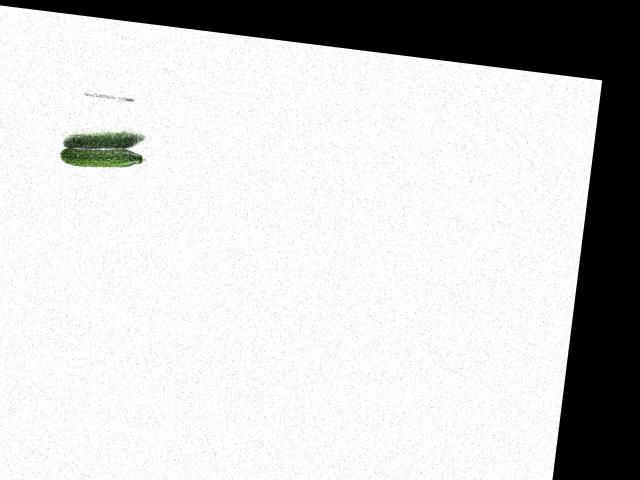cucumber: (60, 141, 147, 174)
